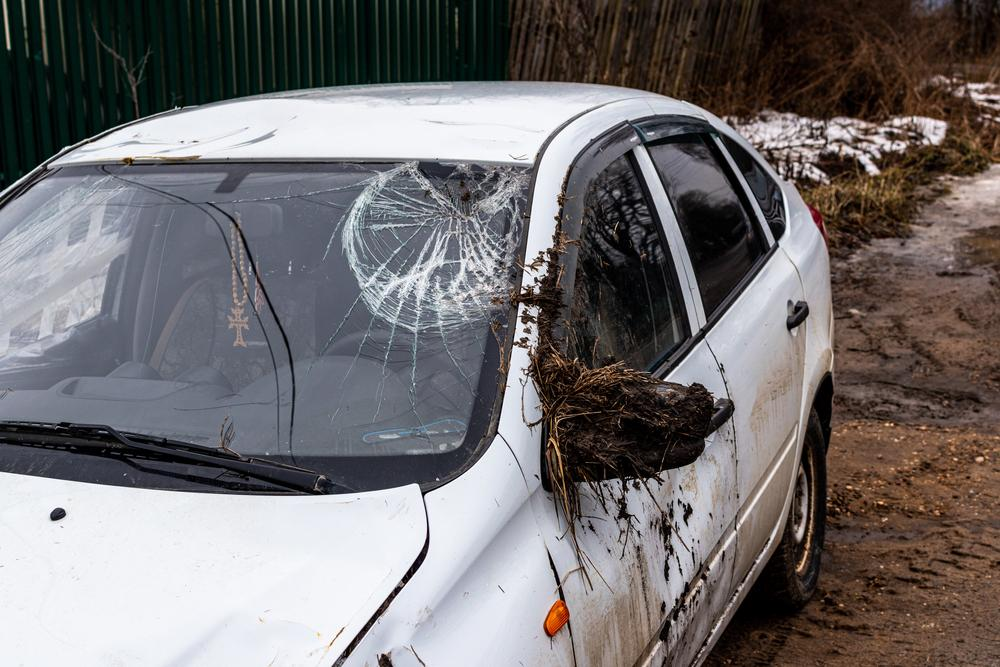dent: (93, 98, 311, 155)
glass shatter: (0, 161, 533, 492)
